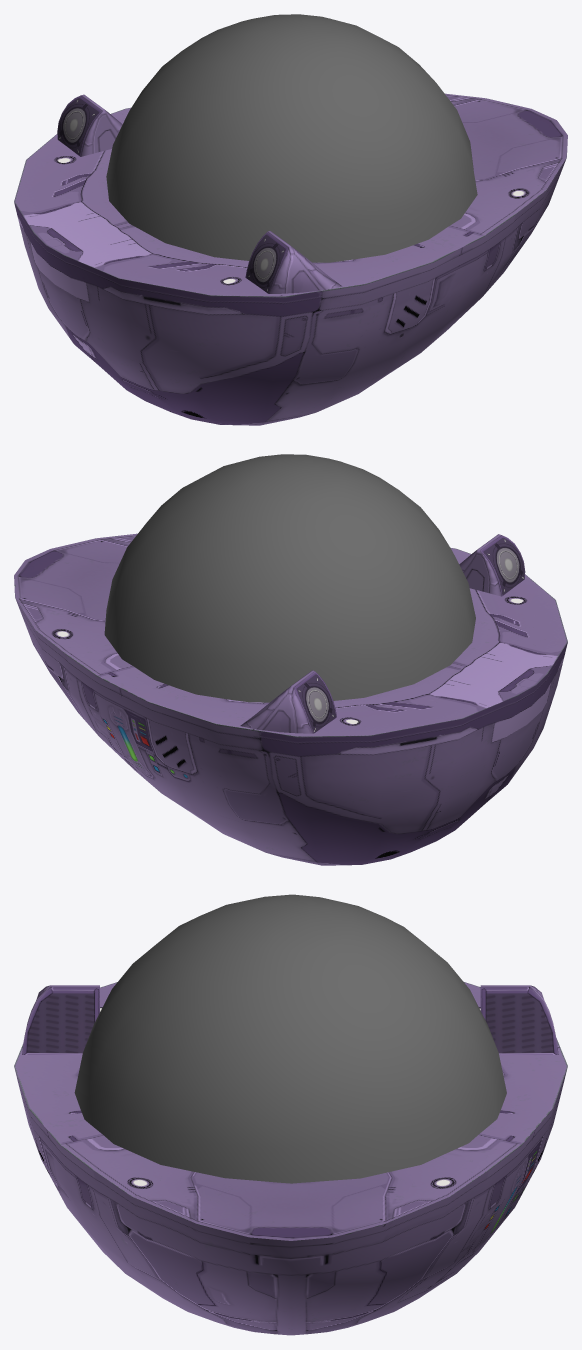
Rendered from Ziggy_Spaceship_twoSeats.fbx.
3 renders of one model, top to bottom at view 1: azimuth 30°, elevation 25°; view 2: azimuth 150°, elevation 25°; view 3: azimuth 270°, elevation 25°, orthographic. The views are drawn at different scales.
Parts seen in each view (by area): view 1: Spaceship_Body, Spaceship_DomeRoof; view 2: Spaceship_Body, Spaceship_DomeRoof; view 3: Spaceship_DomeRoof, Spaceship_Body.
Boxes of the visible parts, left/top/right/bottom form: Spaceship_Body: left=14, top=93, right=567, bottom=425; Spaceship_DomeRoof: left=106, top=14, right=477, bottom=262; Spaceship_Body: left=14, top=533, right=567, bottom=865; Spaceship_DomeRoof: left=104, top=454, right=475, bottom=702; Spaceship_DomeRoof: left=74, top=894, right=506, bottom=1183; Spaceship_Body: left=14, top=982, right=567, bottom=1335.
Size of the model in its own units: 58.62 by 39.59 by 47.66.
3 materials, 1 textured.
